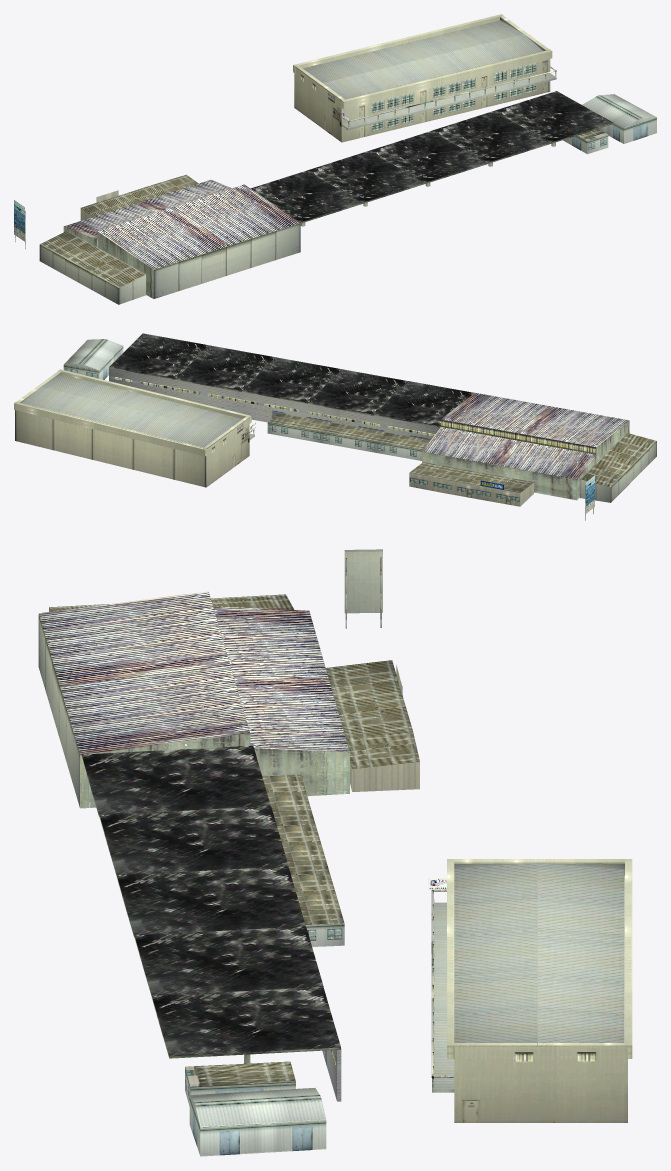
Rendered from Shirgal2a.gltf.
3 views of the same model, one above another, from view 1: azimuth 30°, elevation 25°; view 2: azimuth 150°, elevation 25°; view 3: azimuth 270°, elevation 25° (orthographic). The views are drawn at different scales.
Parts seen in each view (by area): view 1: node3, node1; view 2: node3, node1; view 3: node3, node1.
Boxes of the visible parts, x1,y1,x2,y2 form: node3: (251,14,613,226); node1: (14,94,656,304); node3: (14,333,473,487); node1: (63,339,656,520); node3: (81,745,632,1122); node1: (38,549,419,1156).
Size of the model in its own units: 147 by 10.18 by 69.54.
